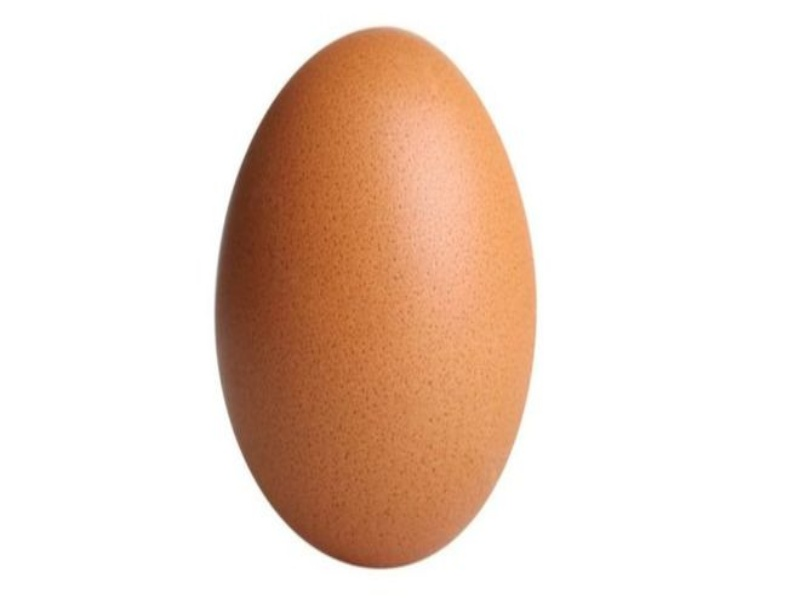Huevo: (213, 26, 538, 571)
